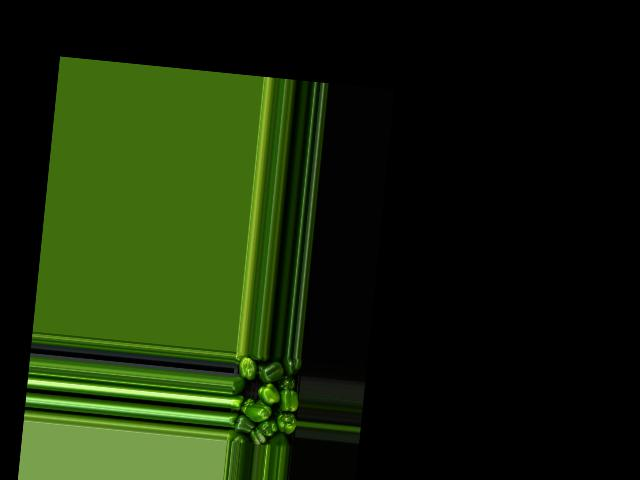bell_pepper: (265, 431, 286, 448)
